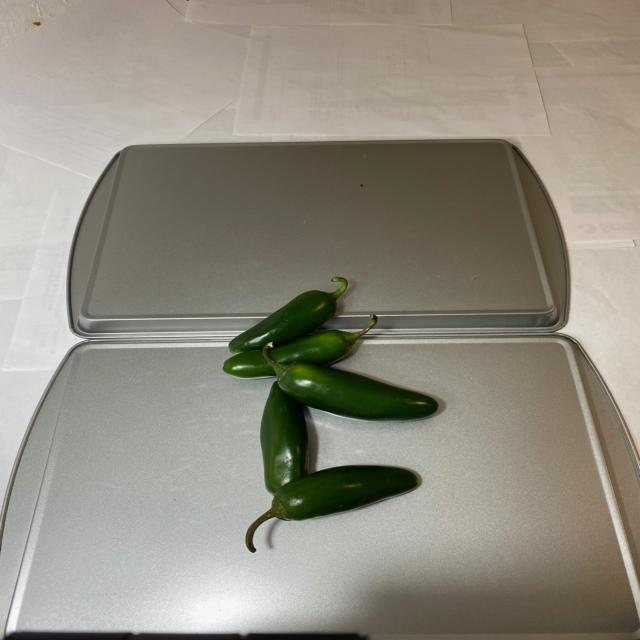chilli: (230, 271, 442, 541)
